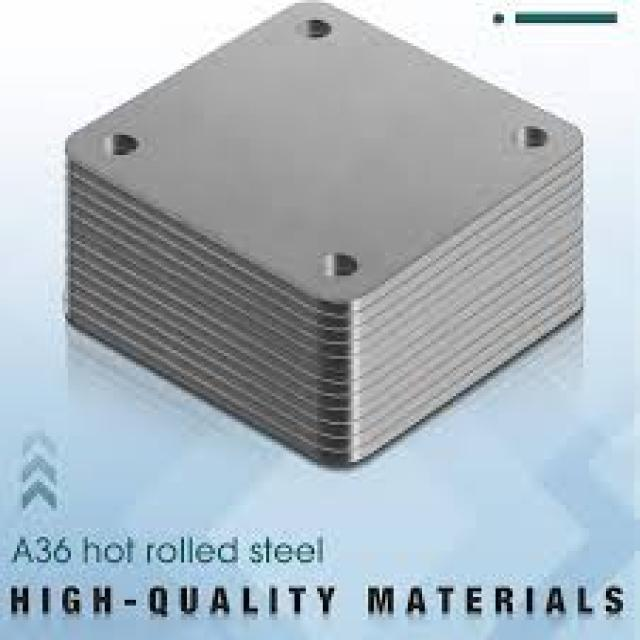holes: (316, 250, 360, 276), (521, 123, 547, 146), (110, 132, 136, 155), (303, 17, 331, 37)
